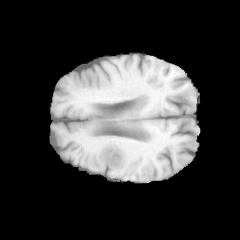glioma: (98, 143, 127, 170)
